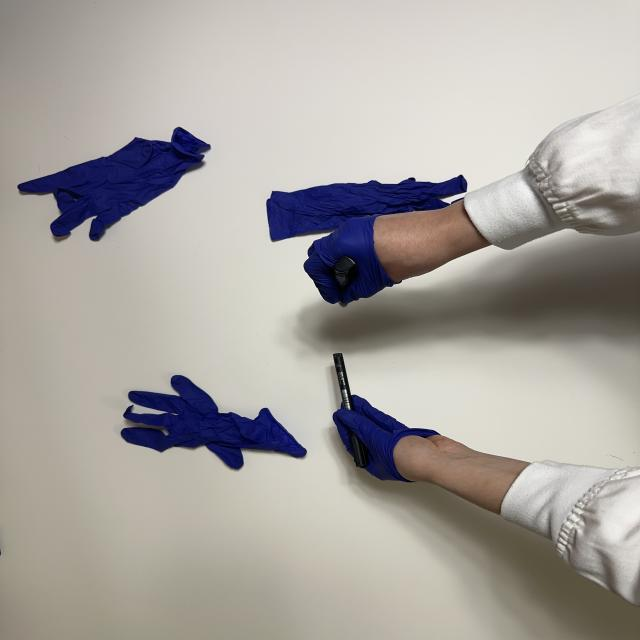glove_not_fitted: (332, 392, 470, 484), (305, 213, 440, 307)
